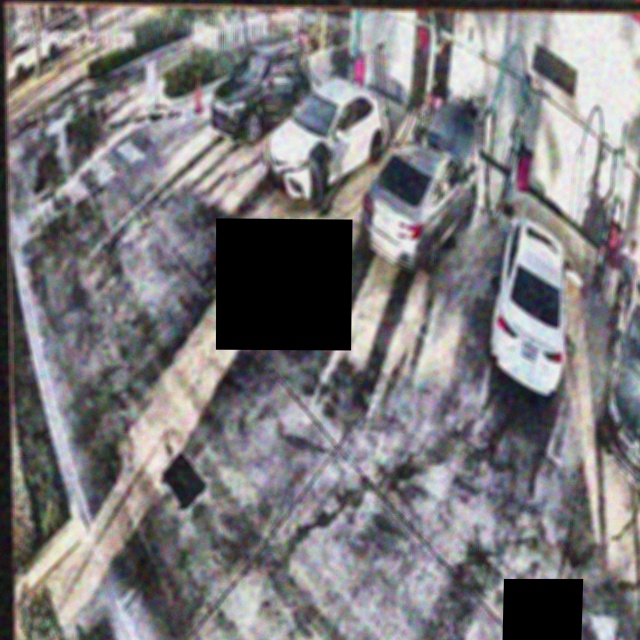Car: (362, 104, 481, 272), (265, 76, 391, 195), (489, 216, 567, 398)
